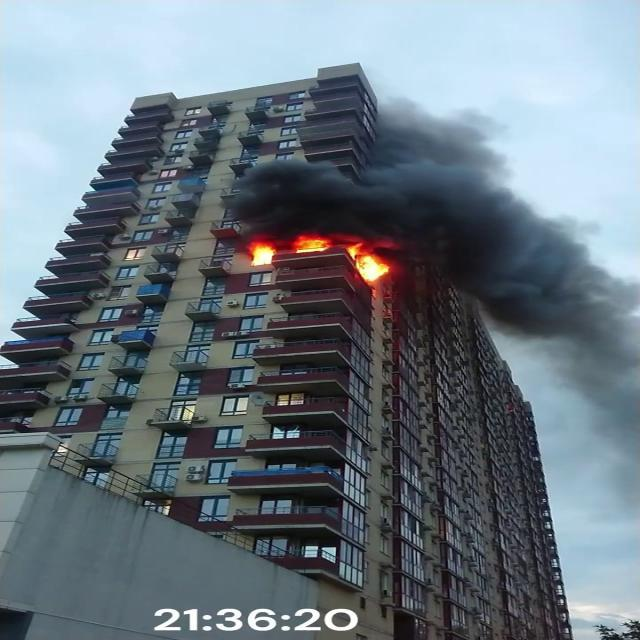Fire: (244, 232, 351, 265), (350, 244, 390, 284)
Smoke: (228, 90, 574, 250), (436, 193, 640, 382)
